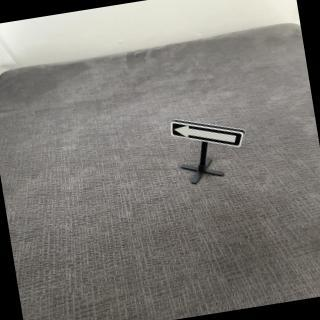sign_oneway_left: (168, 107, 250, 160)
